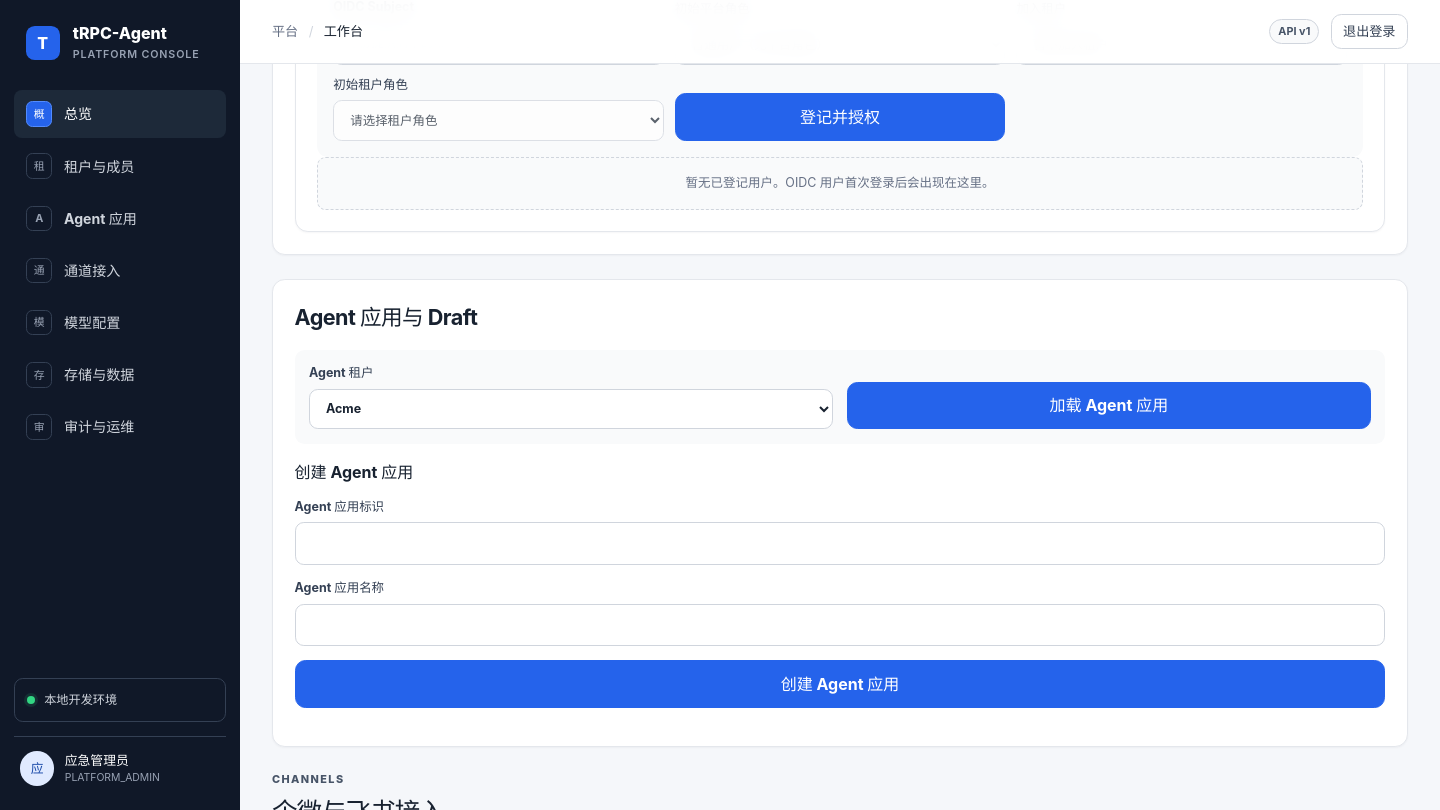
Agent 编辑遇到并发版本冲突时提示重新加载
(page scrolled)
Click the button "加载 Agent 应用" at [1109, 406], box x1=847 y1=382 x2=1371 y2=429
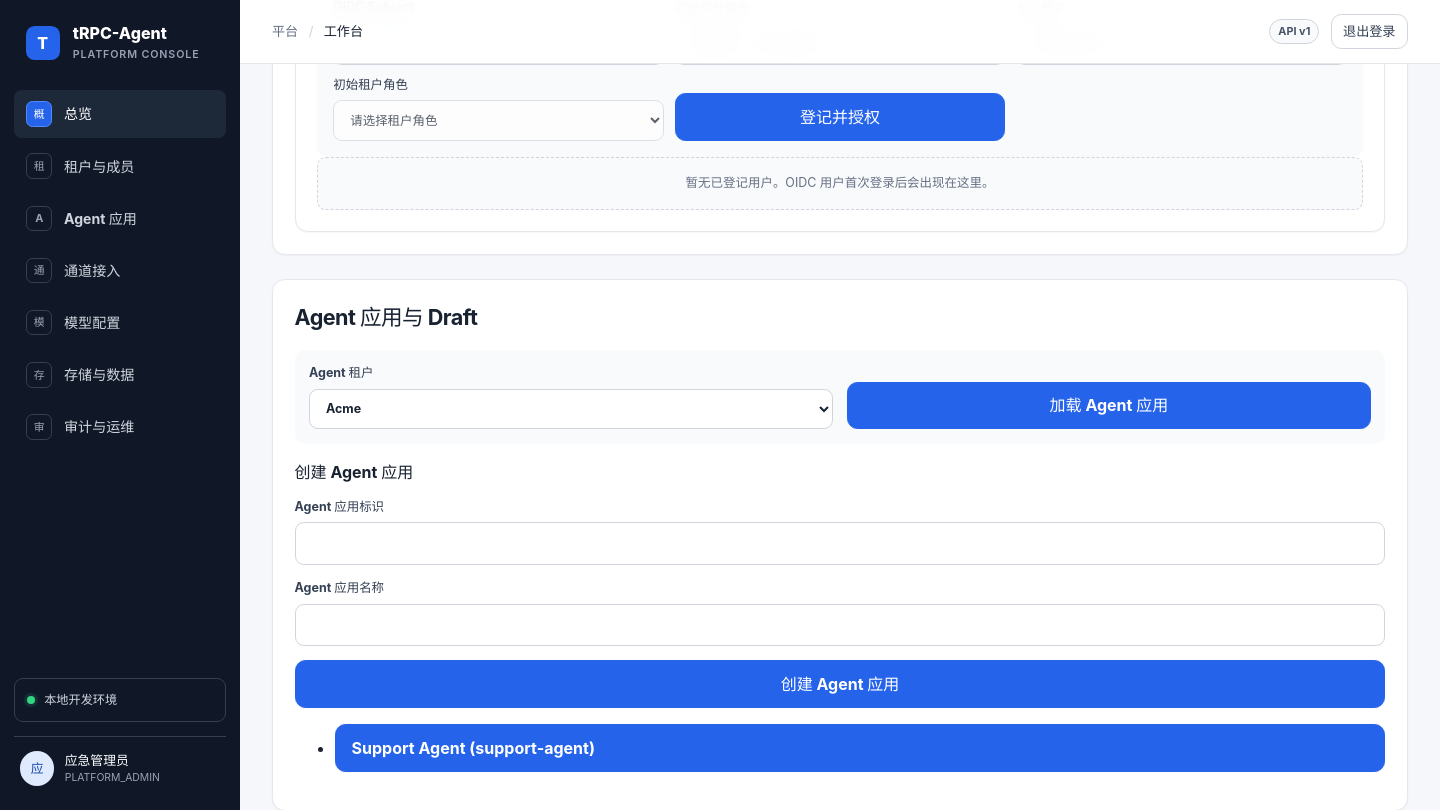
Click the button "Support Agent (support-agent)" at [409, 748], box x1=335 y1=724 x2=1385 y2=772
(page scrolled)
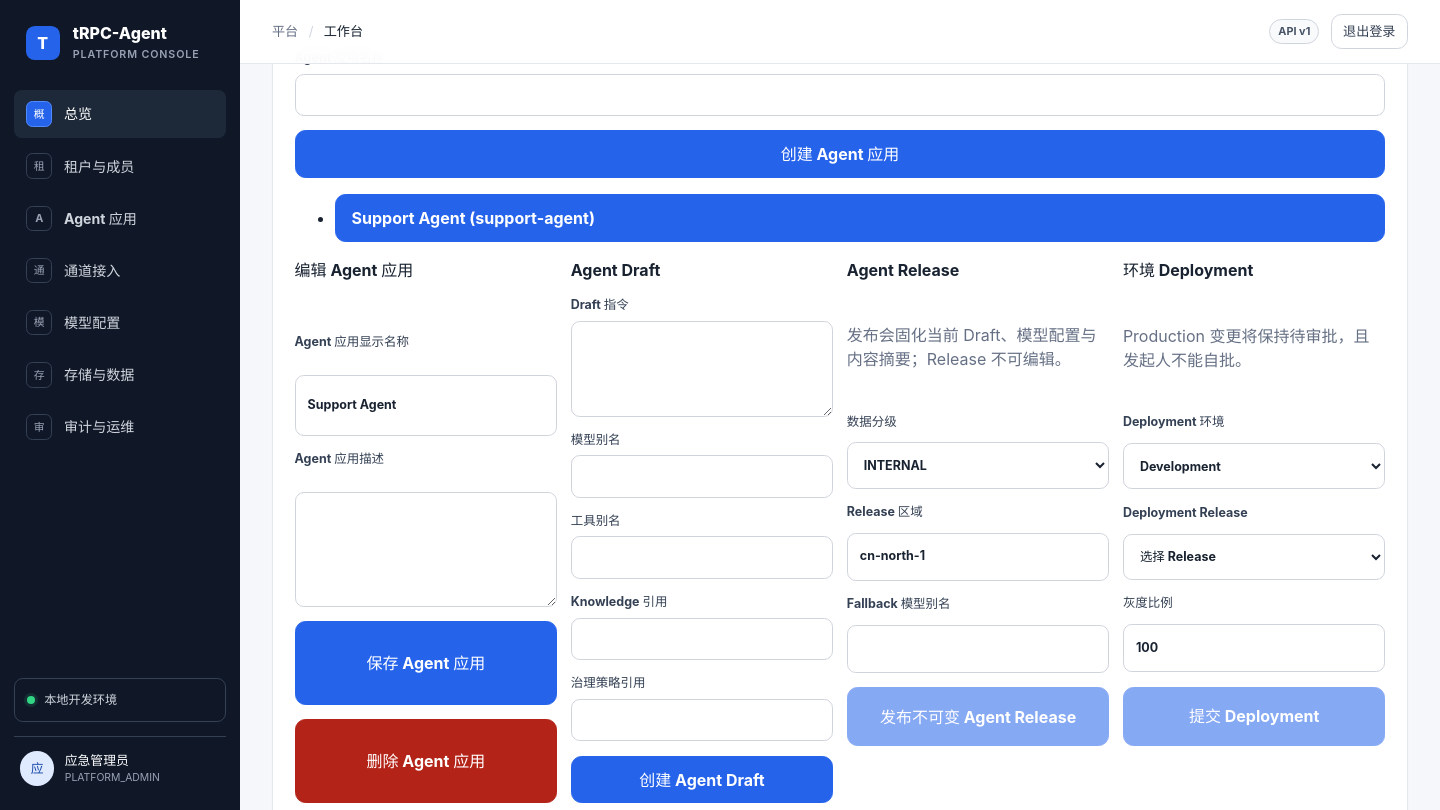
Replace the text in the field labelled "Agent 应用显示名称" with "Concurrent edit" at [426, 405], box x1=295 y1=375 x2=557 y2=436
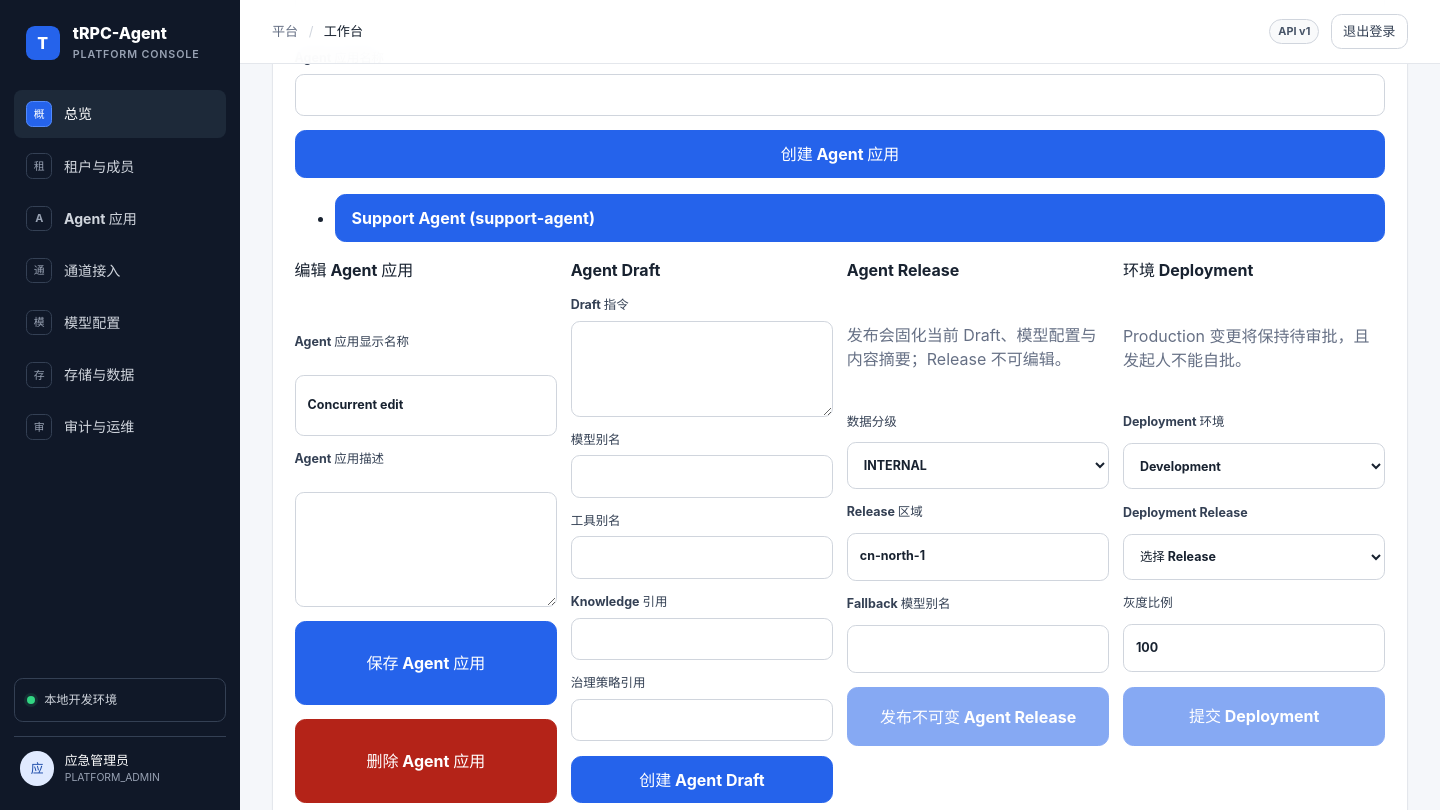
Click the button "保存 Agent 应用" at [426, 663], box x1=295 y1=621 x2=557 y2=705
(page scrolled)
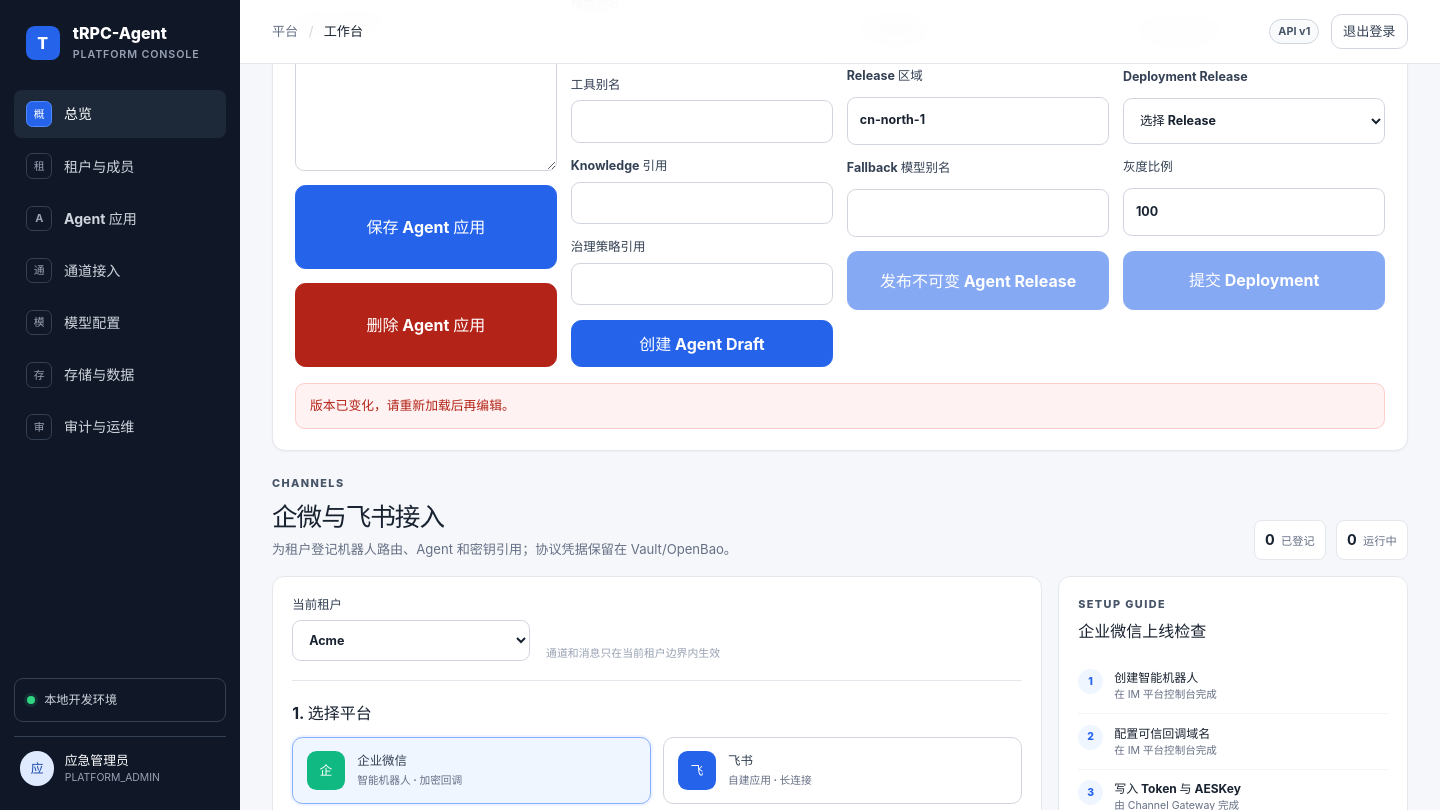
expect the text "版本已变化，请重新加载后再编辑。" is shown: met, box x1=295 y1=383 x2=1385 y2=429
